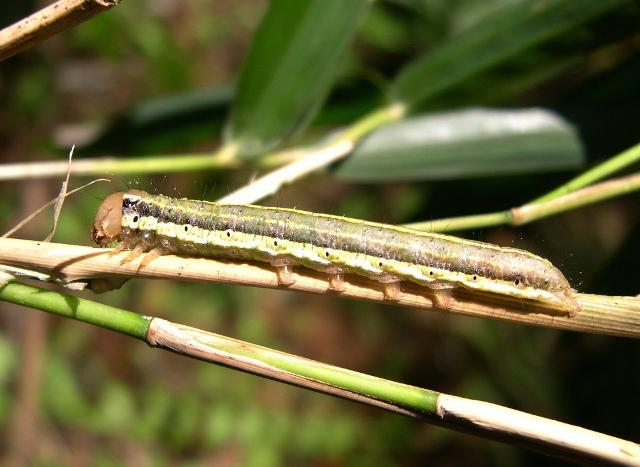caterpillars: (81, 165, 596, 355)
